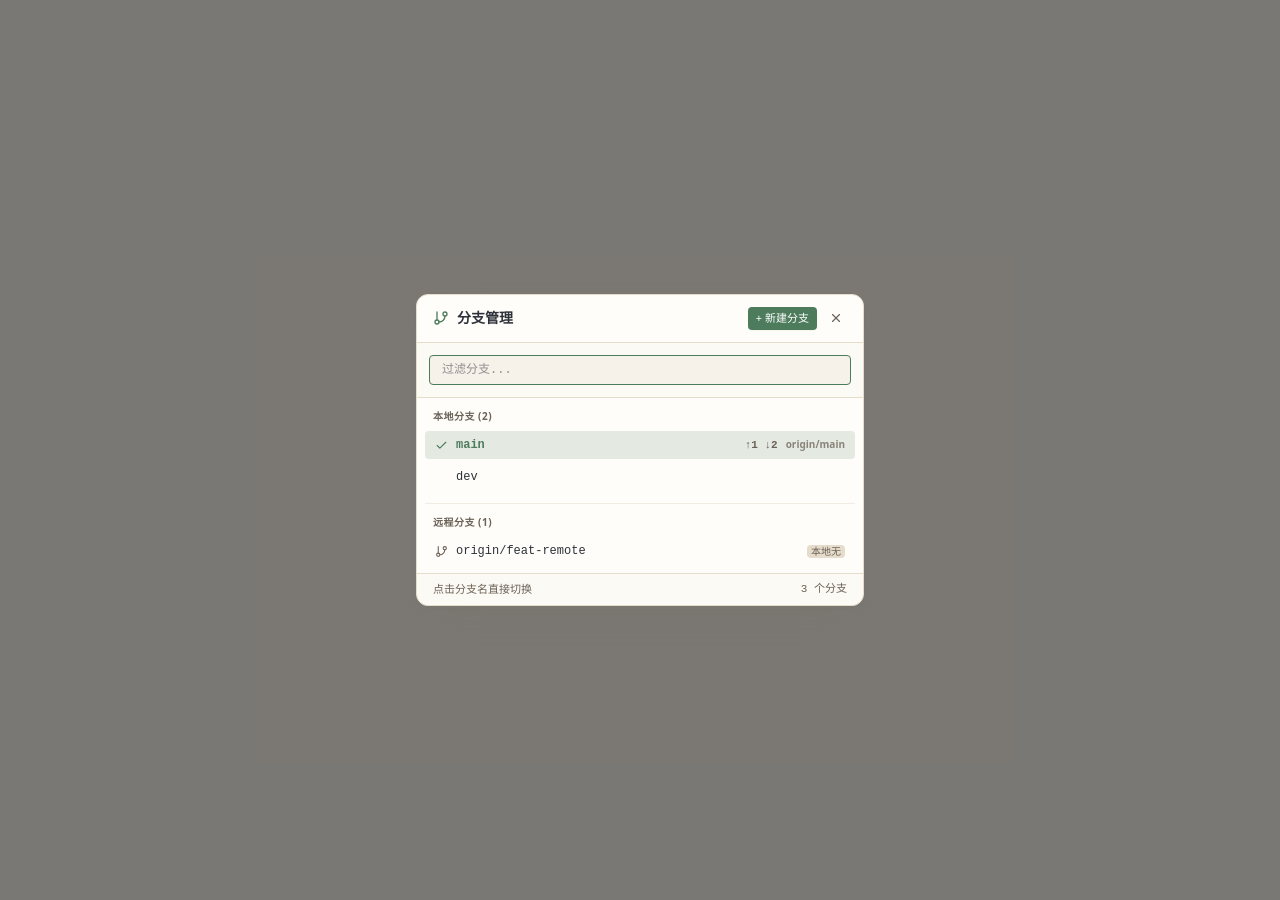
Scenario: BranchModal › handles checkout conflicts blocking switch (AT-08c)
Click the button "dev".
click(467, 477)  # box [425, 463, 855, 491]
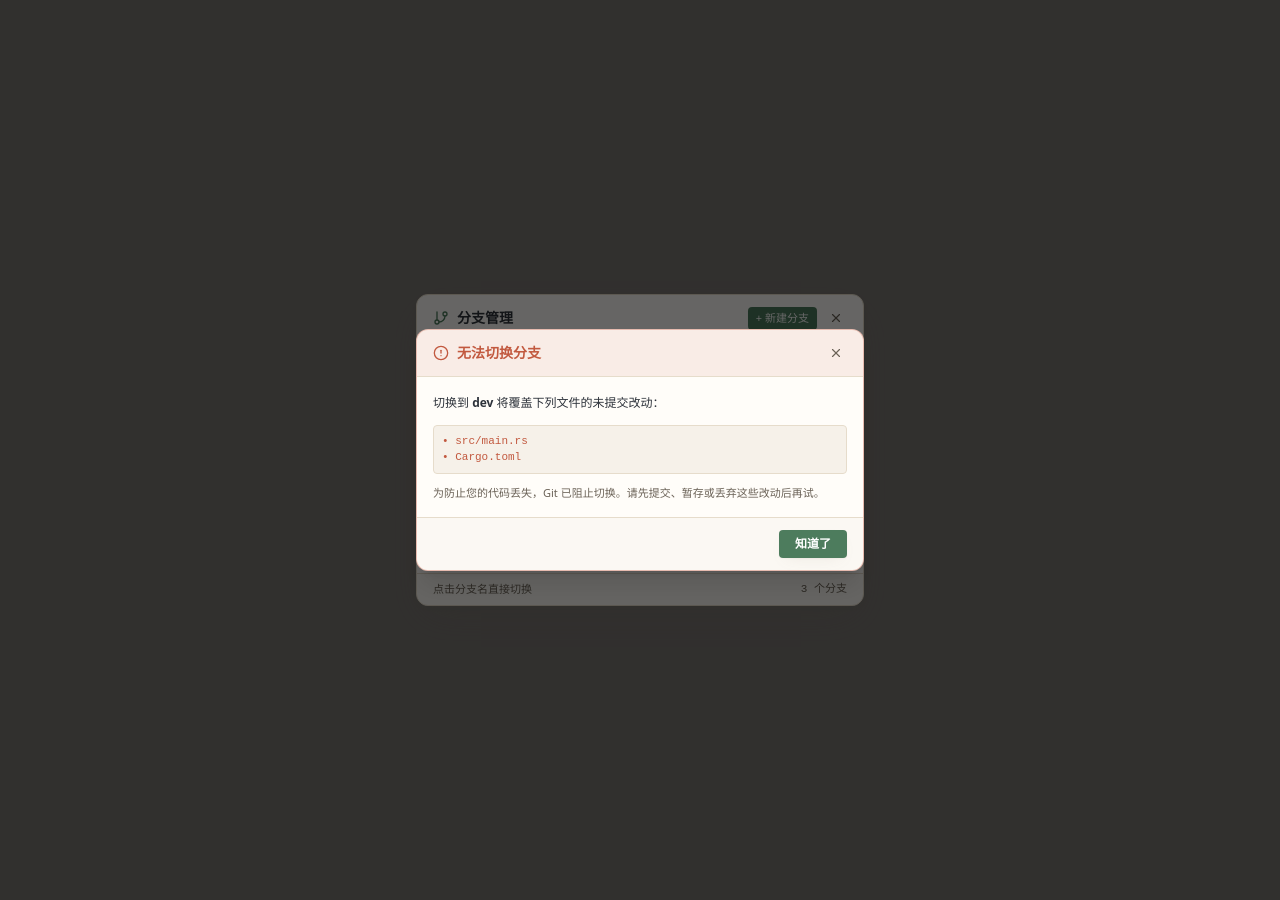
Check: the text "无法切换分支" is shown, box [457, 343, 541, 363]
Check: the text "切换到 dev 将覆盖下列文件的未提交改动：" is shown, box [433, 394, 664, 411]
Check: the text "• src/main.rs" is shown, box [442, 435, 528, 447]
# Clicking "知道了" dismisses the conflict modal
Click the button "知道了".
click(813, 544)  # box [779, 530, 847, 558]
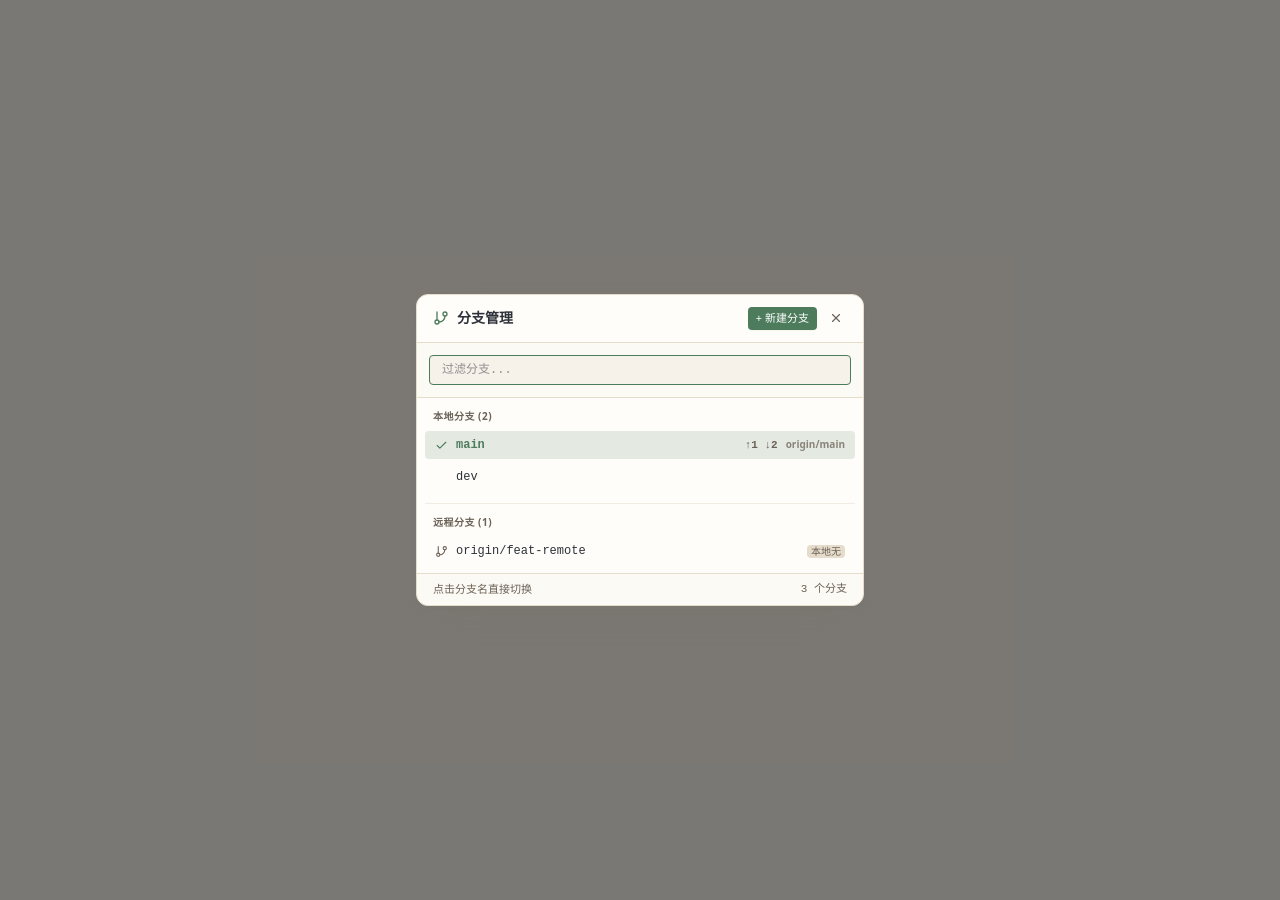
Check: the text "无法切换分支" is gone
